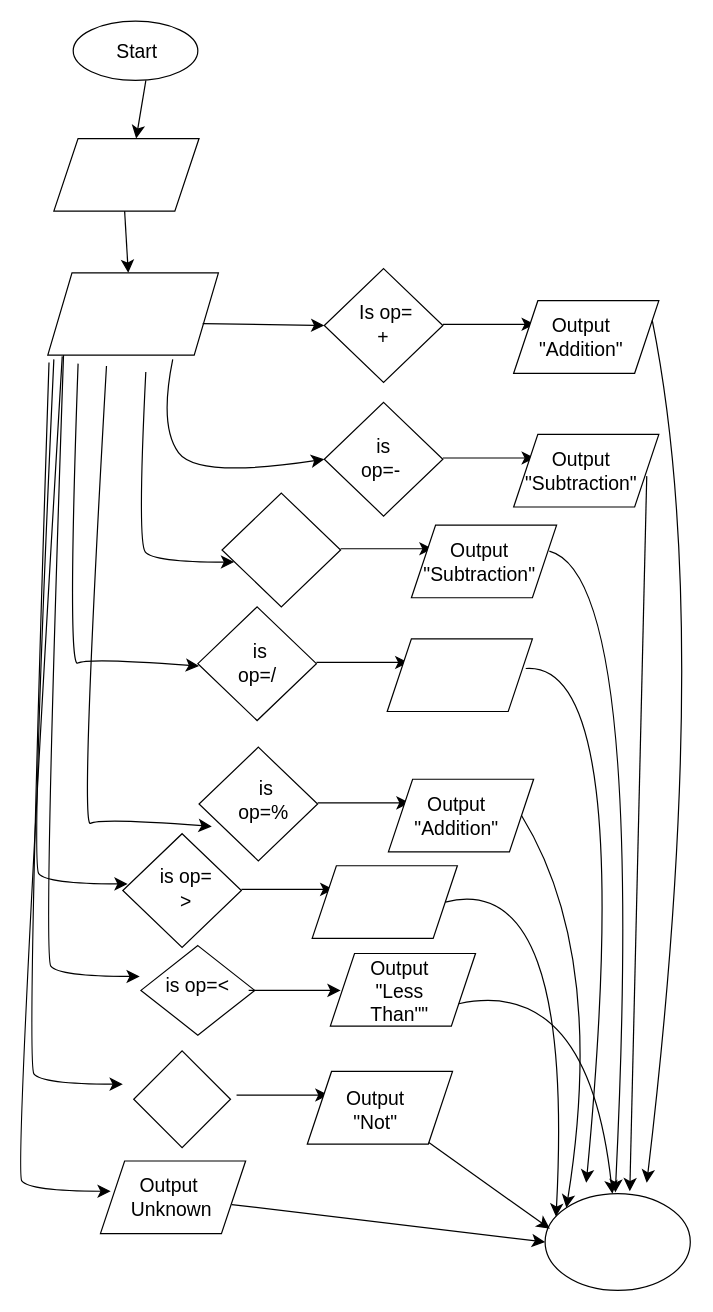
This 713x1312 diagram has some shape labels left out. The shapes that lost their labels are listed below. From the top down, each one's centre as x and y in pixels, then its label:
[126,174]: Ask user to enter a op
[132,313]: Scan input and define it as variable op
[281,549]: is op=*
[459,674]: Output "Division"
[384,901]: Output "Greater Than"
[181,1099]: Is op=!
[617,1241]: Stop
